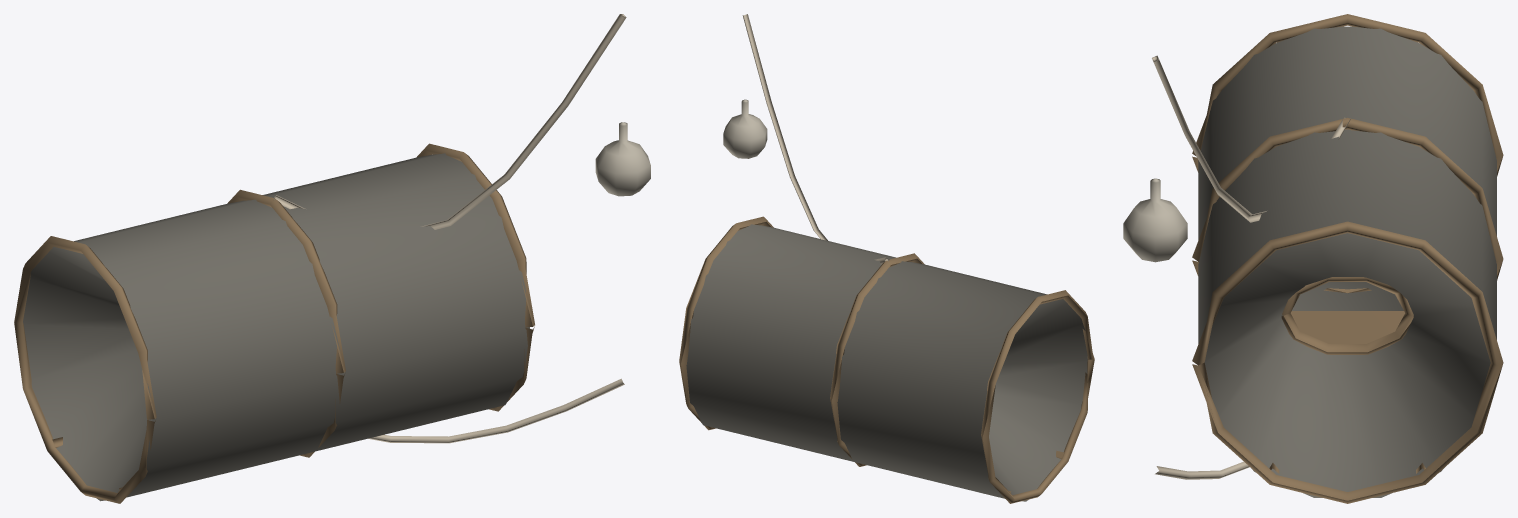
Rendered from ch5-trap.glb.
The picture shows the model from 3 angles, left to right: view 1: azimuth 30°, elevation 25°; view 2: azimuth 150°, elevation 25°; view 3: azimuth 270°, elevation 25°; orthographic projection. The views are drawn at different scales.
Parts seen in each view (by area): view 1: trap_mesh, trap, float, rope_s3, rope; view 2: trap_mesh, trap, float, rope_s3; view 3: trap_mesh, trap, float, rope_s3, rope.
Boxes of the visible parts, x1,y1,x2,y2 form: trap_mesh: [23, 153, 529, 501]; trap: [14, 143, 534, 503]; float: [595, 122, 650, 196]; rope_s3: [274, 14, 626, 229]; rope: [368, 378, 624, 443]; trap_mesh: [686, 224, 1087, 501]; trap: [679, 216, 1094, 503]; float: [723, 99, 767, 158]; rope_s3: [742, 14, 889, 264]; trap_mesh: [1198, 26, 1496, 497]; trap: [1192, 14, 1503, 503]; float: [1123, 178, 1187, 262]; rope_s3: [1152, 55, 1350, 222]; rope: [1155, 461, 1249, 479].
Size of the model in its own units: 0.5861 by 0.5042 by 0.356.
